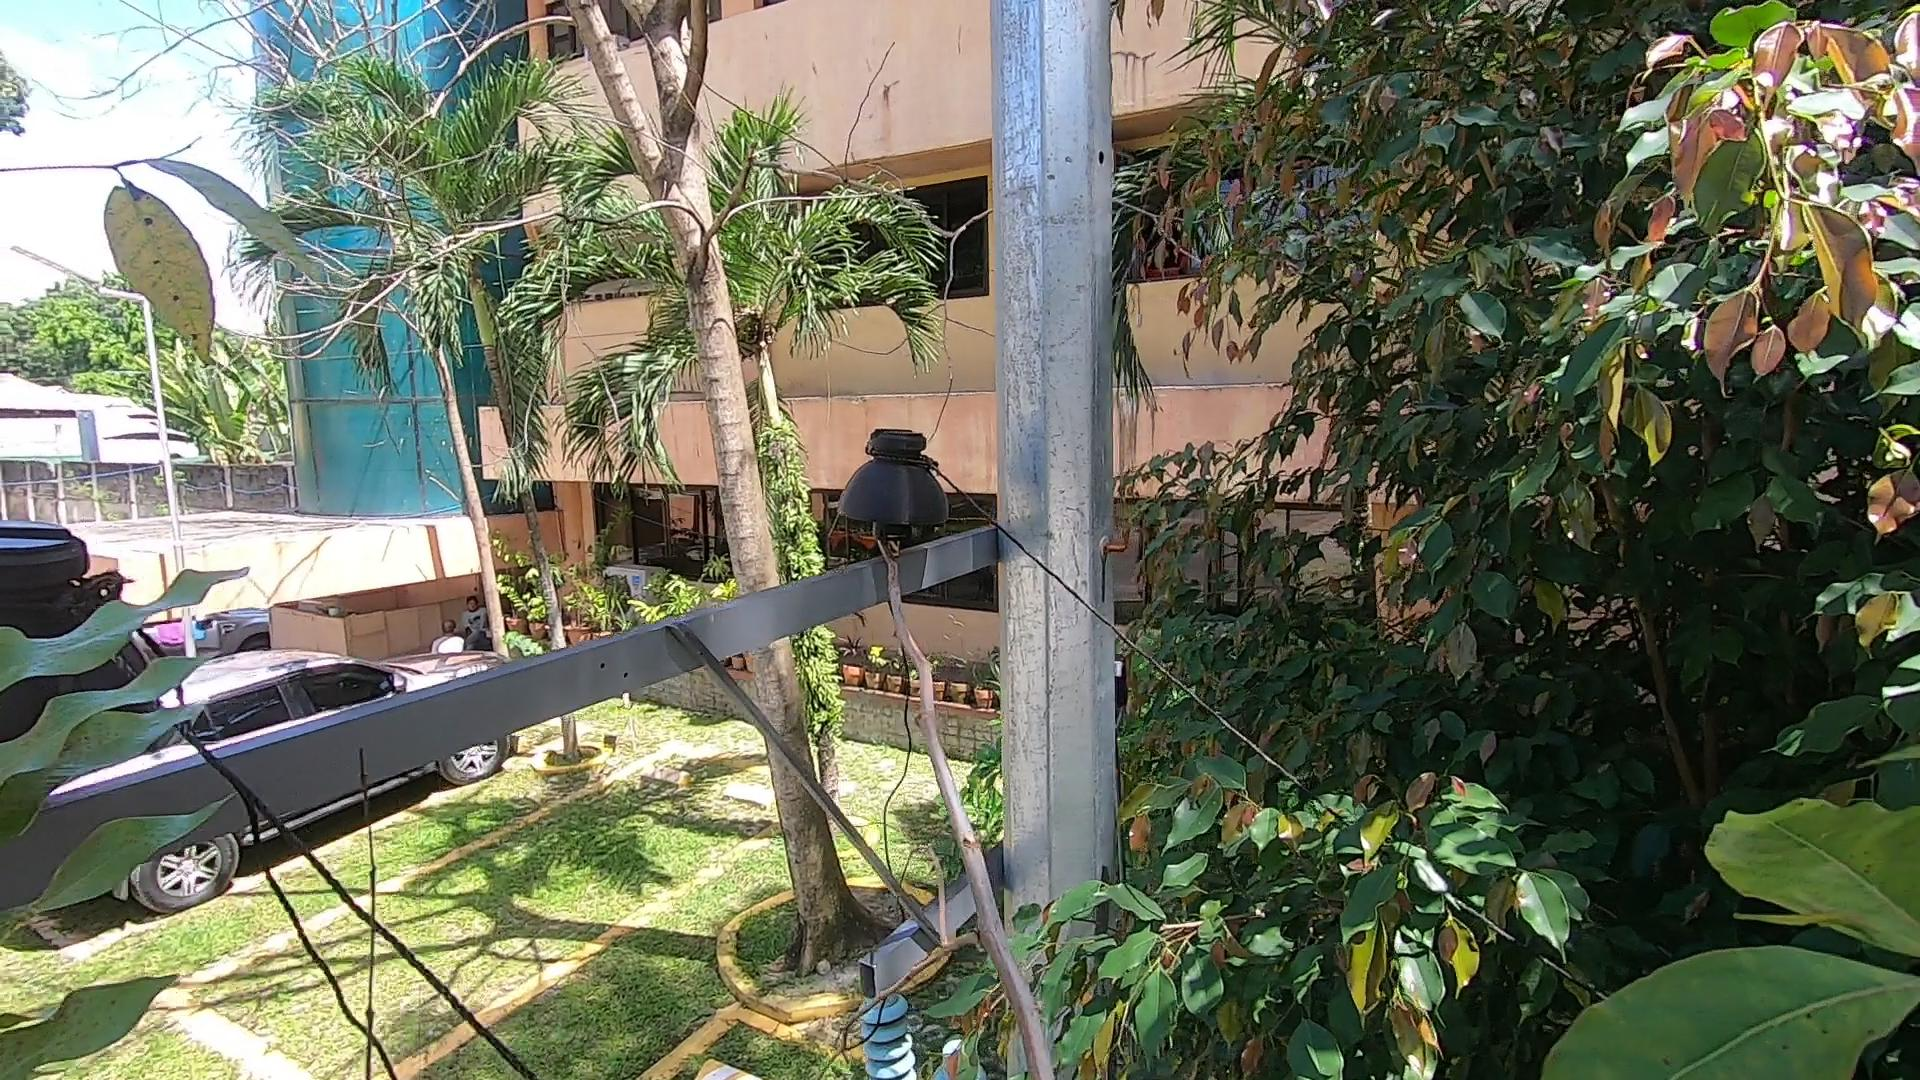branch with leaves: (928, 943, 1166, 1080)
leaf: (8, 516, 251, 1034)
tree branch: (847, 497, 1102, 1080)
